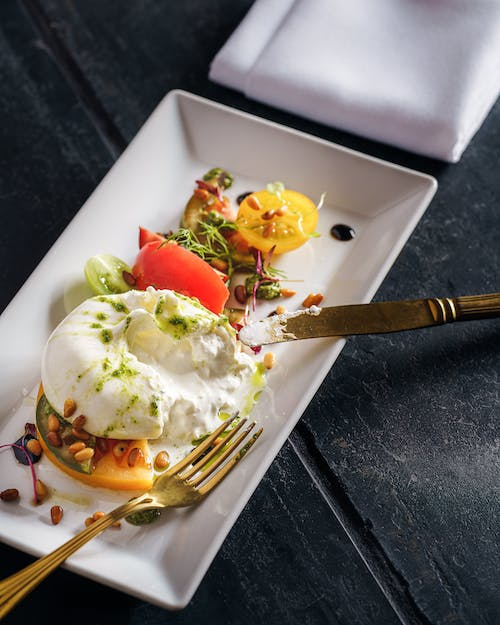knife: (235, 288, 500, 348)
